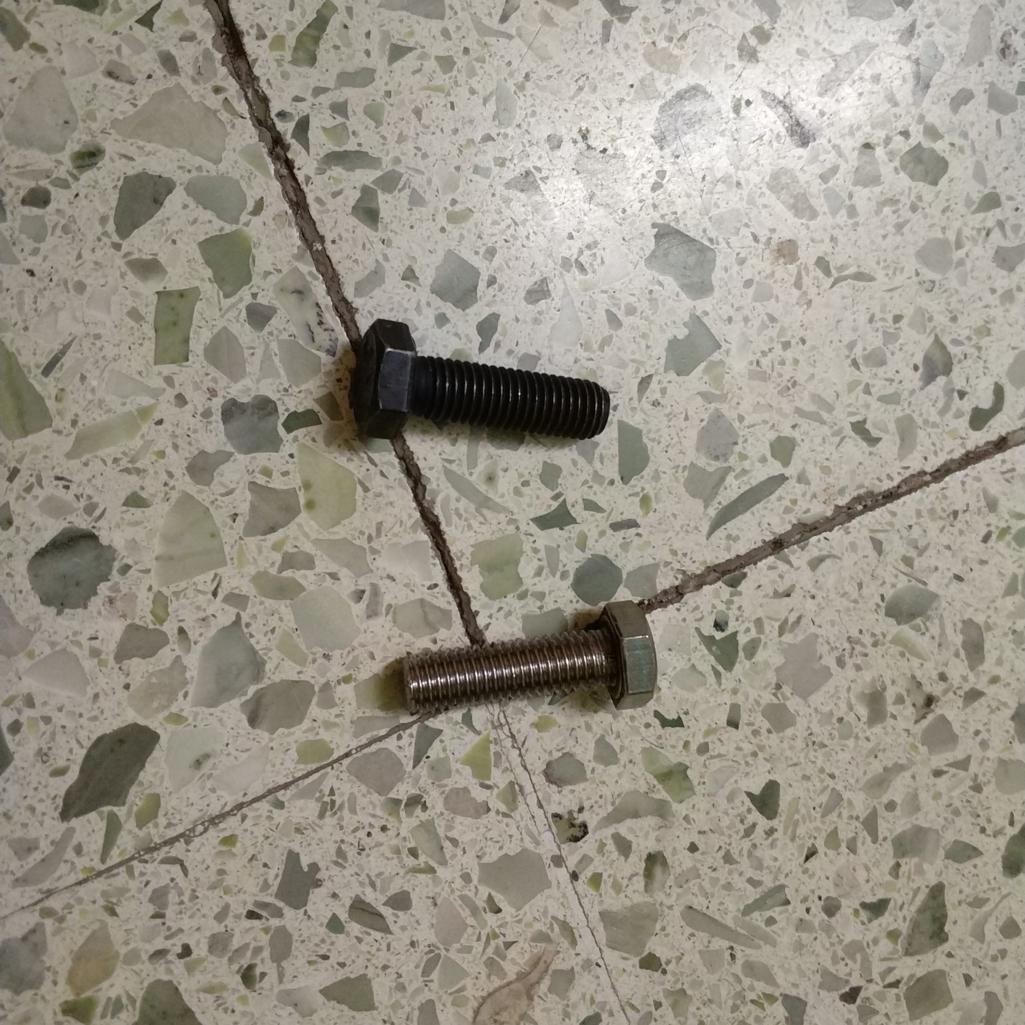screwtype2black: (332, 304, 617, 465)
screwtype2silver: (388, 584, 657, 732)
